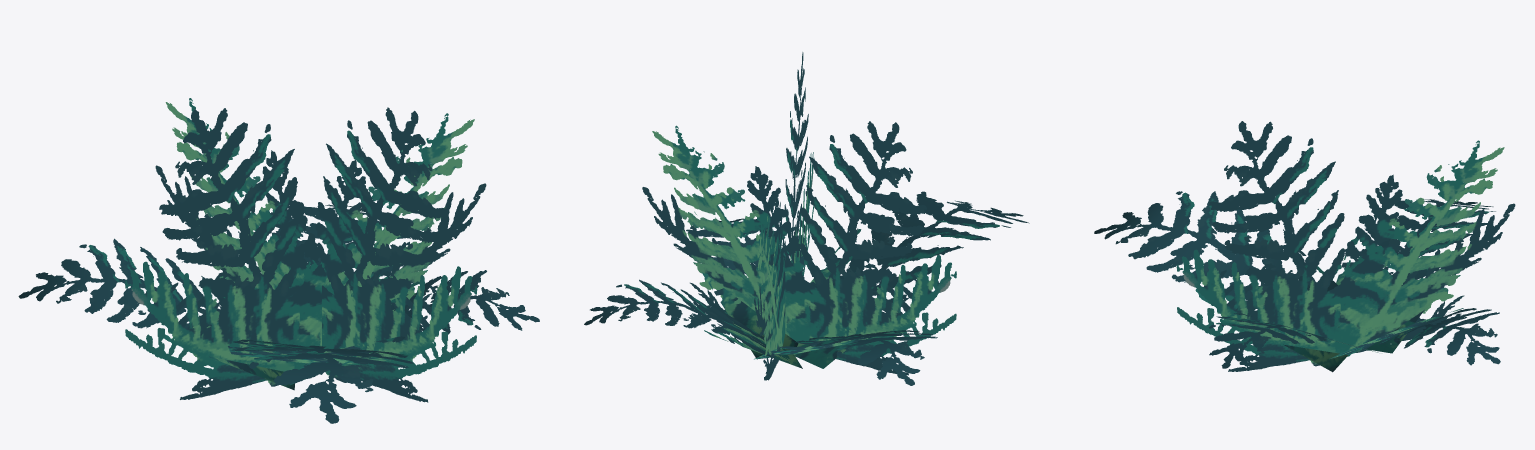
File: obj_plantFern.fbx
3 views of the same model, side by side, from view 1: azimuth 30°, elevation 25°; view 2: azimuth 150°, elevation 25°; view 3: azimuth 270°, elevation 25° (orthographic). The views are drawn at different scales.
Parts seen in each view (by area): view 1: obj_plantFern; view 2: obj_plantFern; view 3: obj_plantFern.
Part boxes in pixels (<box>): obj_plantFern: <box>18,98,539,423</box>; obj_plantFern: <box>584,52,1029,385</box>; obj_plantFern: <box>1094,121,1515,372</box>.
Size of the model in its own units: 130 by 92.45 by 140.
1 material, 1 textured.
